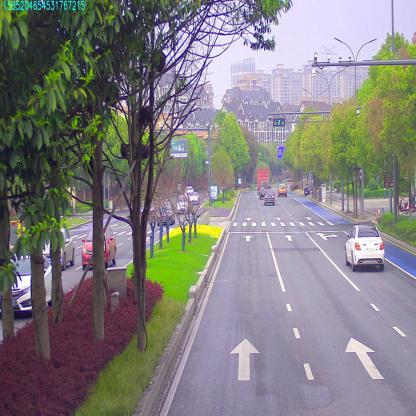traffic-light: (274, 117, 285, 126)
